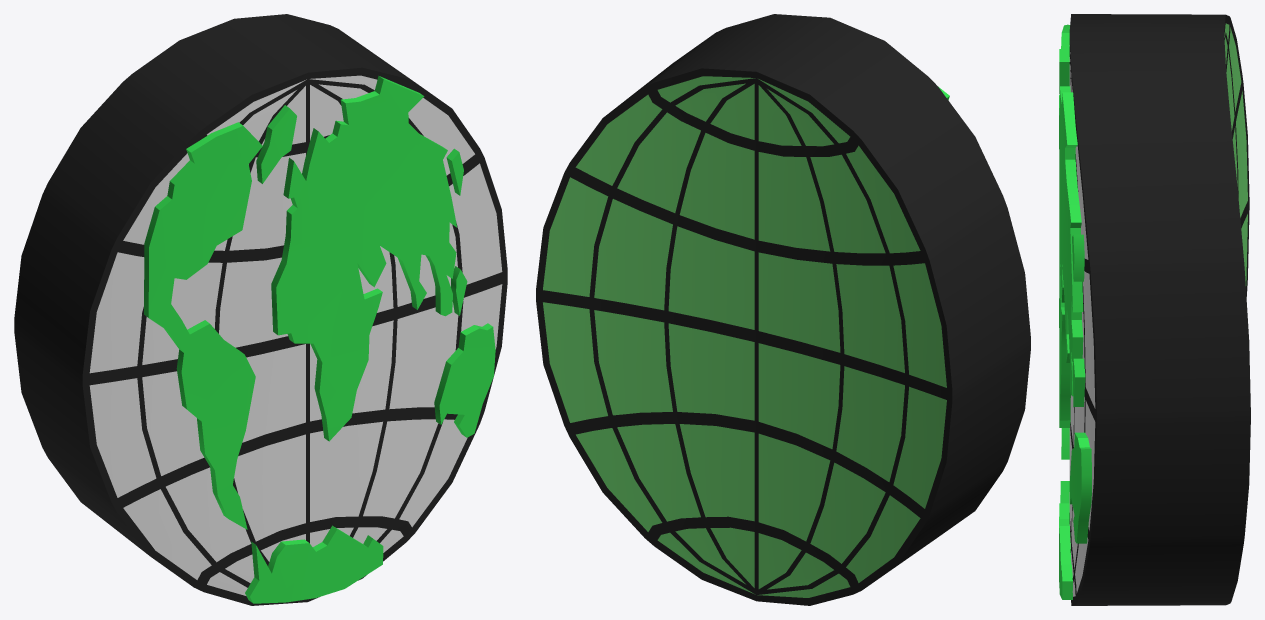
File: Earth_Inner.fbx
The picture shows the model from 3 angles, left to right: view 1: azimuth 30°, elevation 25°; view 2: azimuth 150°, elevation 25°; view 3: azimuth 270°, elevation 25°; orthographic projection. The views are drawn at different scales.
Visible parts, largest first — view 1: Earth_Inner; view 2: Earth_Inner; view 3: Earth_Inner.
Boxes of the visible parts, <box> form: Earth_Inner: <box>14,14,507,605</box>; Earth_Inner: <box>536,14,1030,605</box>; Earth_Inner: <box>1059,14,1250,605</box>.
Bounding box in the file's own units: 24.38 × 28.97 × 9.08.
